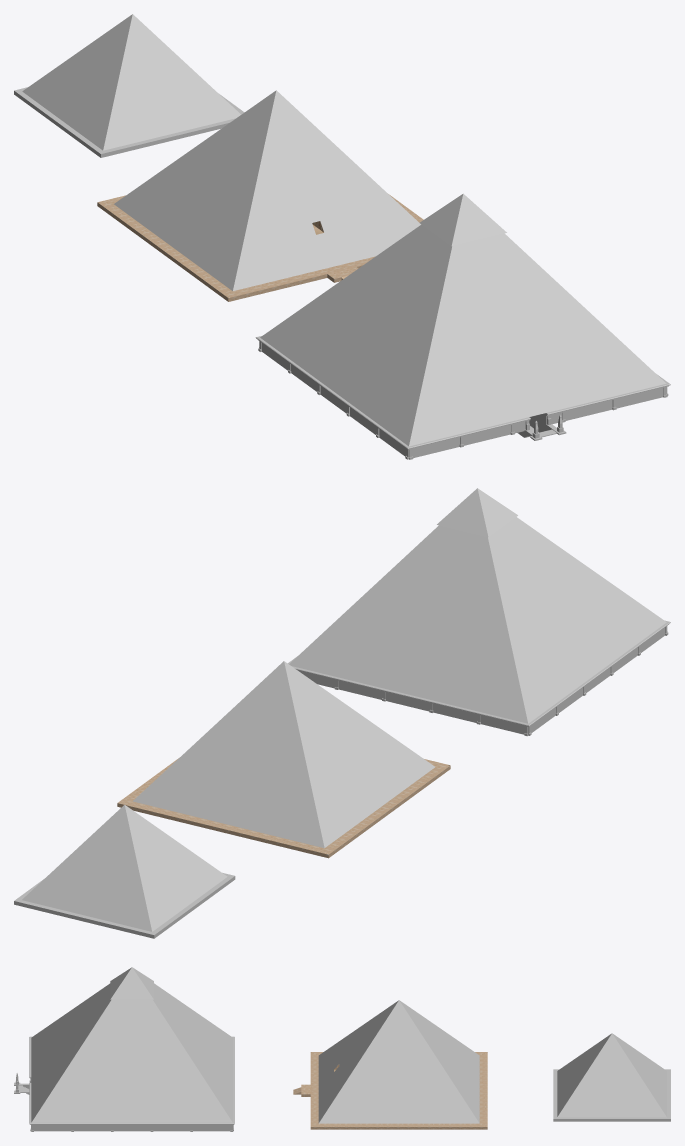
Rendered from pyramids.obj.
3 views of the same model, one above another, from view 1: azimuth 30°, elevation 25°; view 2: azimuth 150°, elevation 25°; view 3: azimuth 270°, elevation 25° (orthographic). The views are drawn at different scales.
Parts seen in each view (by area): view 1: pyramid1_1, pyramid2_1, pyramid3, pyramid1_2, pyramid2_2, pyramid1_3; view 2: pyramid1_1, pyramid2_1, pyramid3, pyramid1_2, pyramid2_2; view 3: pyramid1_1, pyramid2_1, pyramid3, pyramid2_2, pyramid1_2.
Boxes of the visible parts, box(x1,y1,x2,y2) form: pyramid1_1: box(260, 193, 666, 446); pyramid2_1: box(114, 90, 420, 290); pyramid3: box(14, 14, 244, 157); pyramid1_2: box(255, 335, 670, 459); pyramid2_2: box(97, 194, 423, 301); pyramid1_3: box(517, 413, 566, 440); pyramid1_1: box(289, 488, 666, 723); pyramid2_1: box(133, 661, 434, 848); pyramid3: box(14, 804, 235, 938); pyramid1_2: box(288, 620, 670, 736); pyramid2_2: box(117, 757, 450, 858); pyramid1_1: box(31, 967, 232, 1122); pyramid2_1: box(318, 1000, 479, 1123); pyramid3: box(553, 1033, 670, 1121); pyramid2_2: box(293, 1052, 487, 1129); pyramid1_2: box(29, 1036, 234, 1131).
Bounding box in the file's own units: 29.1 × 20.22 × 92.92.
